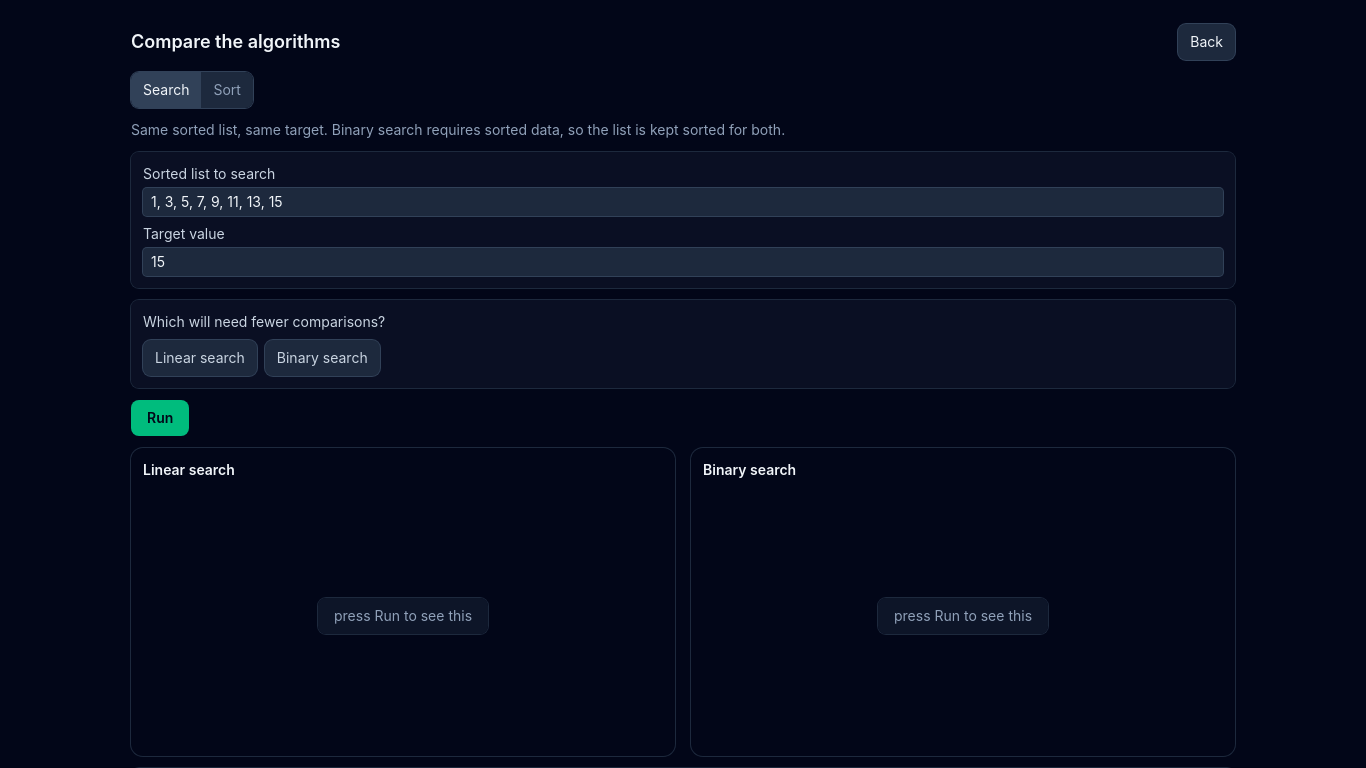
Scenario: Compare — switching pairing resets everything › clears results and returns to the press-Run state
Step 1. Click the button "Run" → (160, 418), box 131,400 -> 189,436
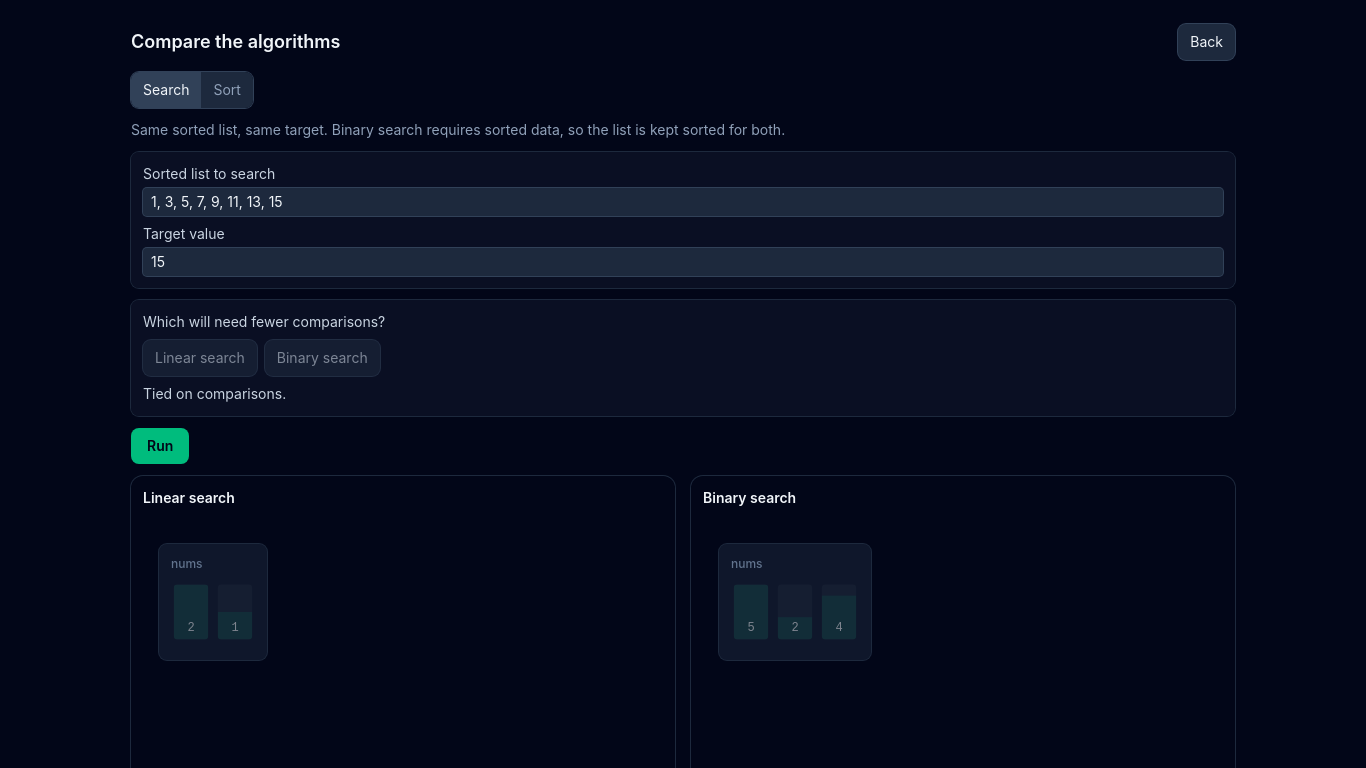
Step 2. Click the button "Sort" → (227, 90), box 202,72 -> 253,108
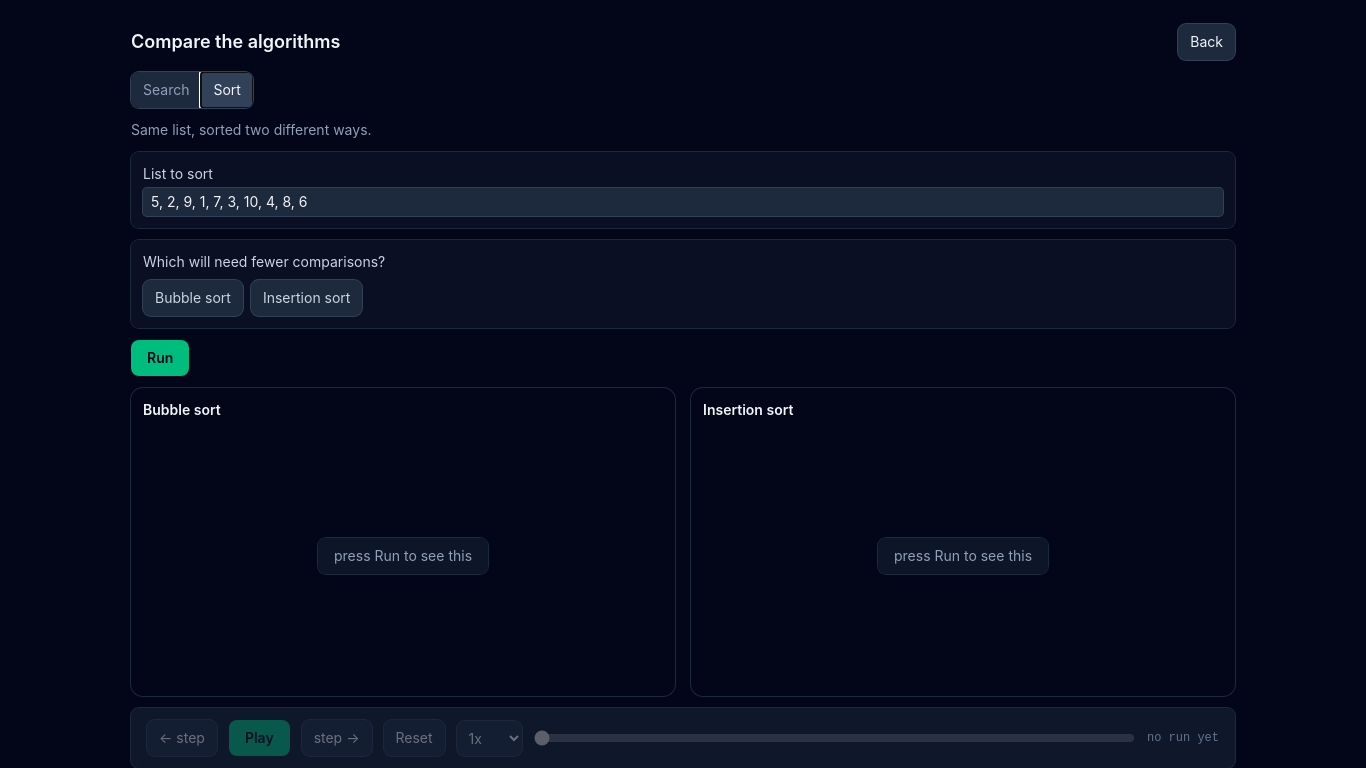
Expected: the field labelled "List to sort" is shown, 143,188 -> 1223,216
Expected: the text "press Run to see this" is shown 2 times, 318,538 -> 488,574; 878,538 -> 1048,574
